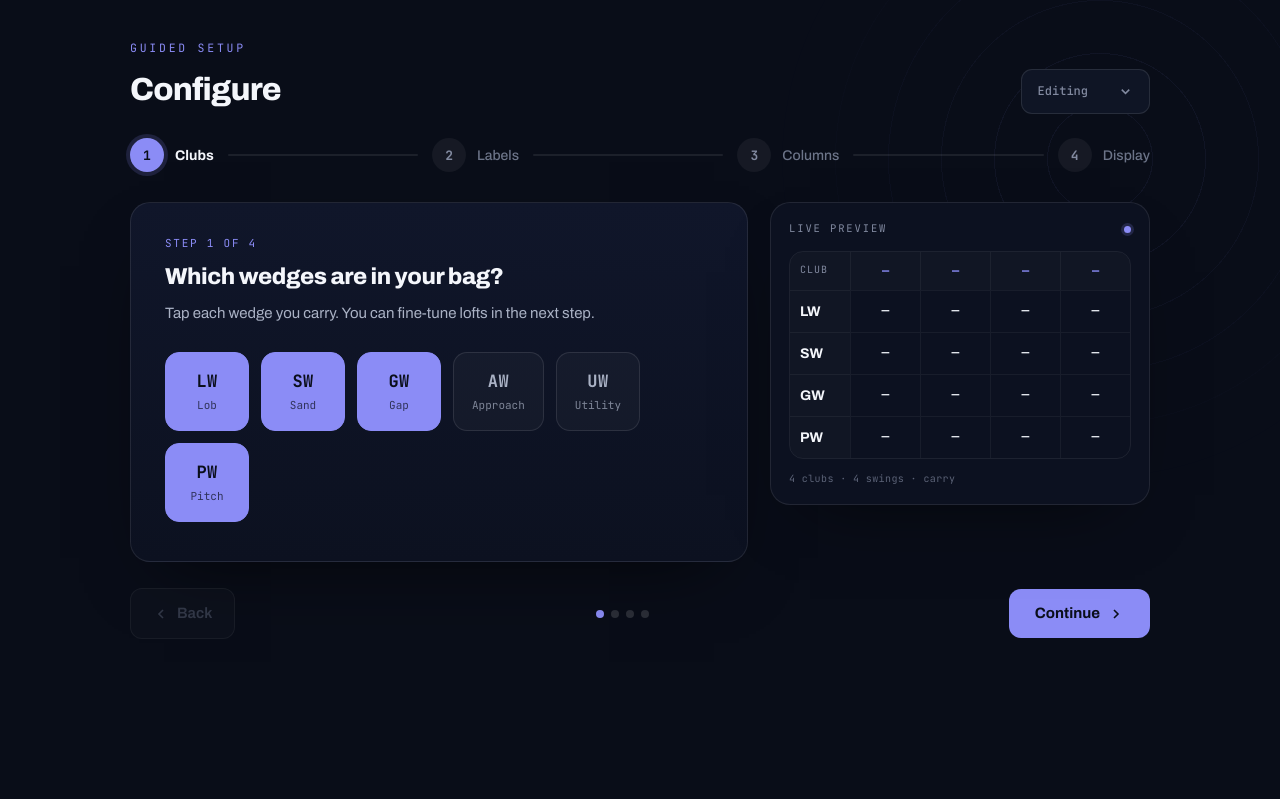
it: ConfigureView › Wizard Navigation › renders Save matrix label on the final step
Click the button with test id "wizard-next-button".
click(1079, 614)  # box [1009, 589, 1150, 638]
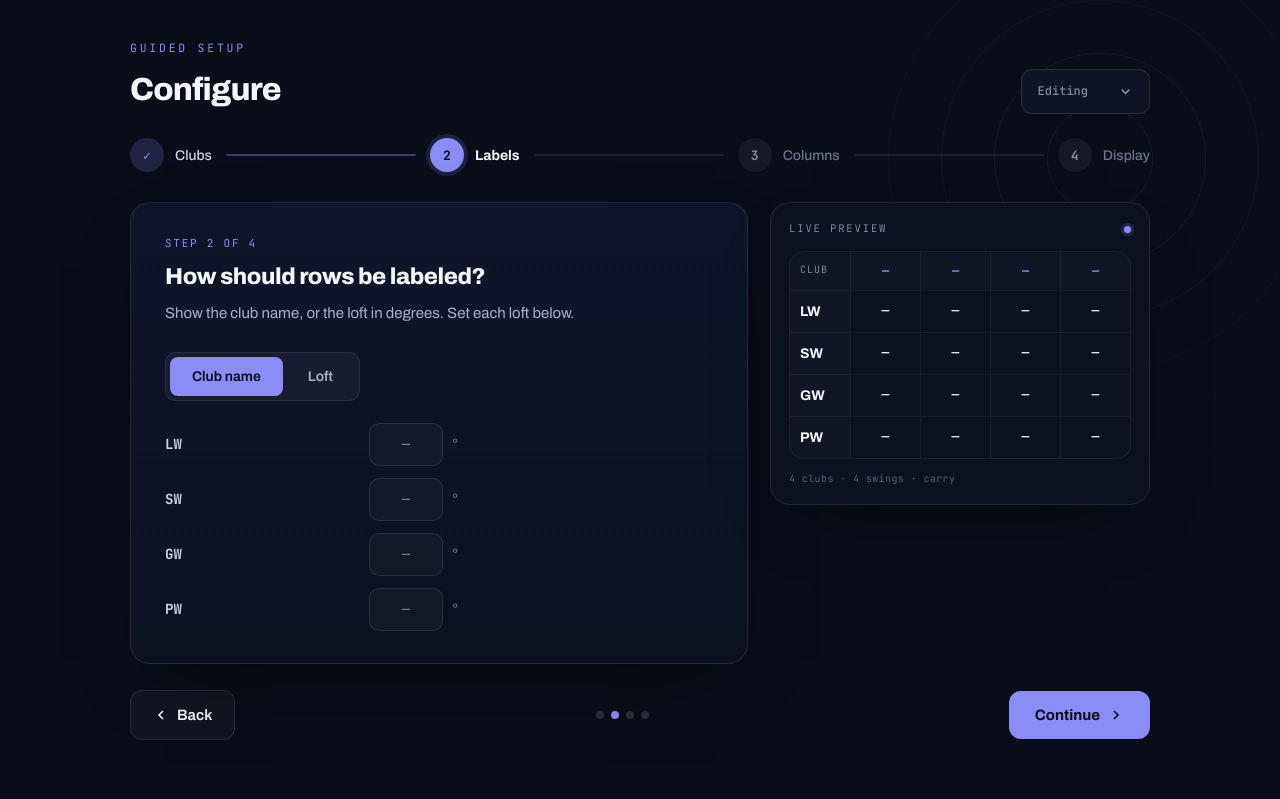
Click the button with test id "wizard-next-button".
click(1079, 715)  # box [1009, 690, 1150, 739]
(page scrolled)
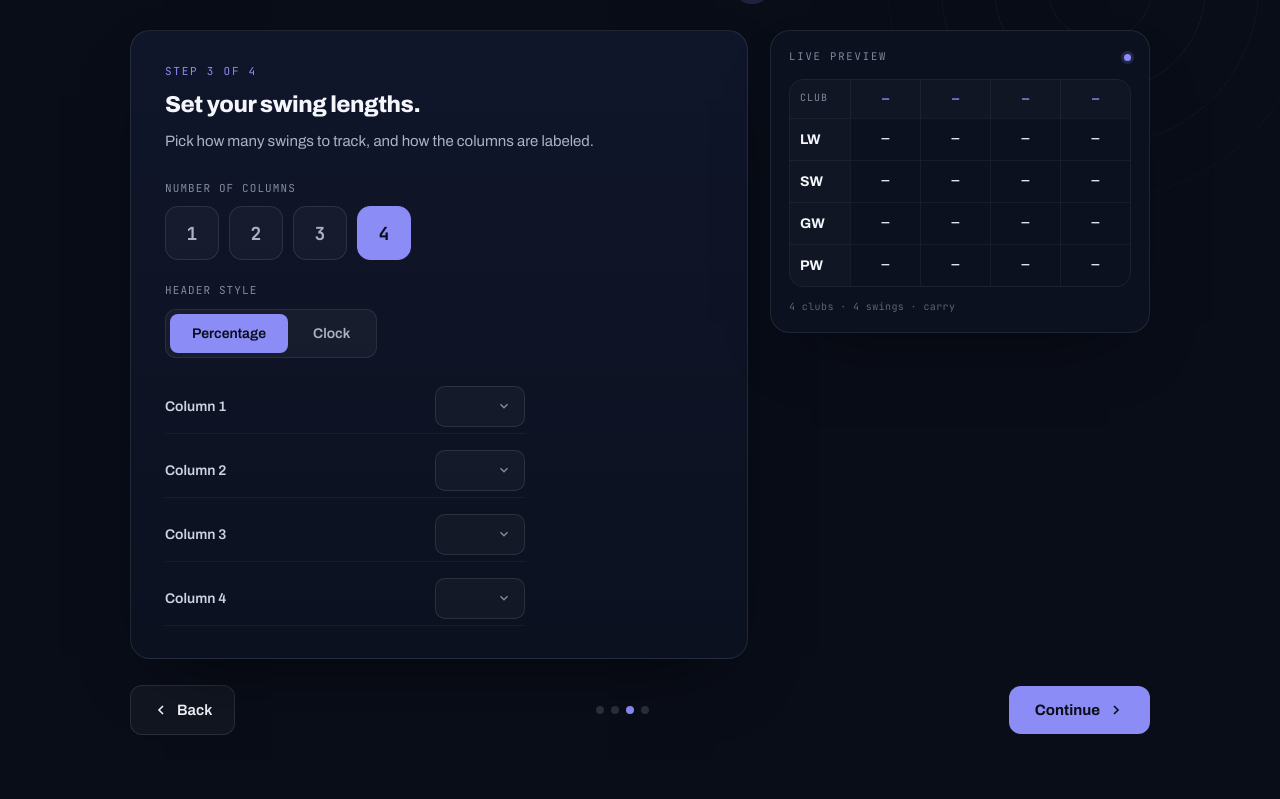
Click the button with test id "wizard-next-button".
click(1079, 710)  # box [1009, 686, 1150, 734]
(page scrolled)
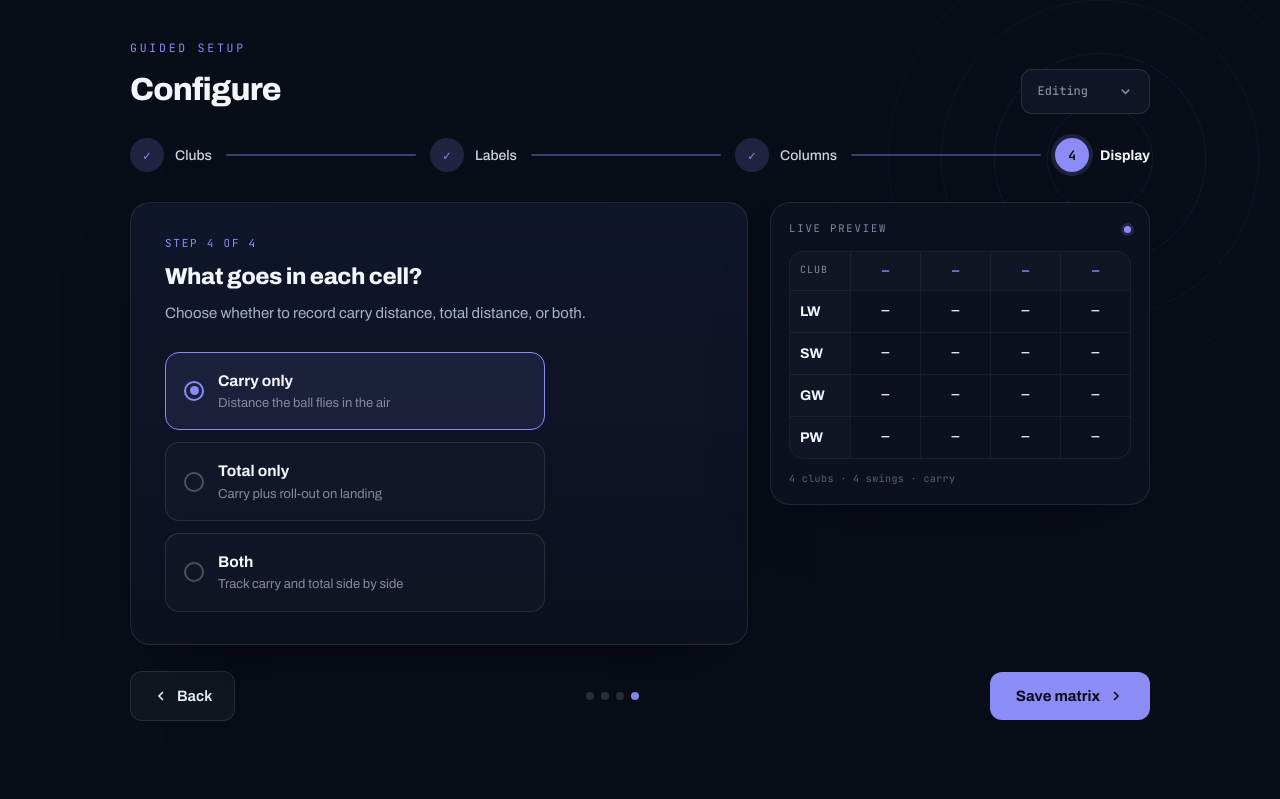
Expected: the button with test id "wizard-next-button" reads "Save matrix", [990, 672, 1150, 720]
